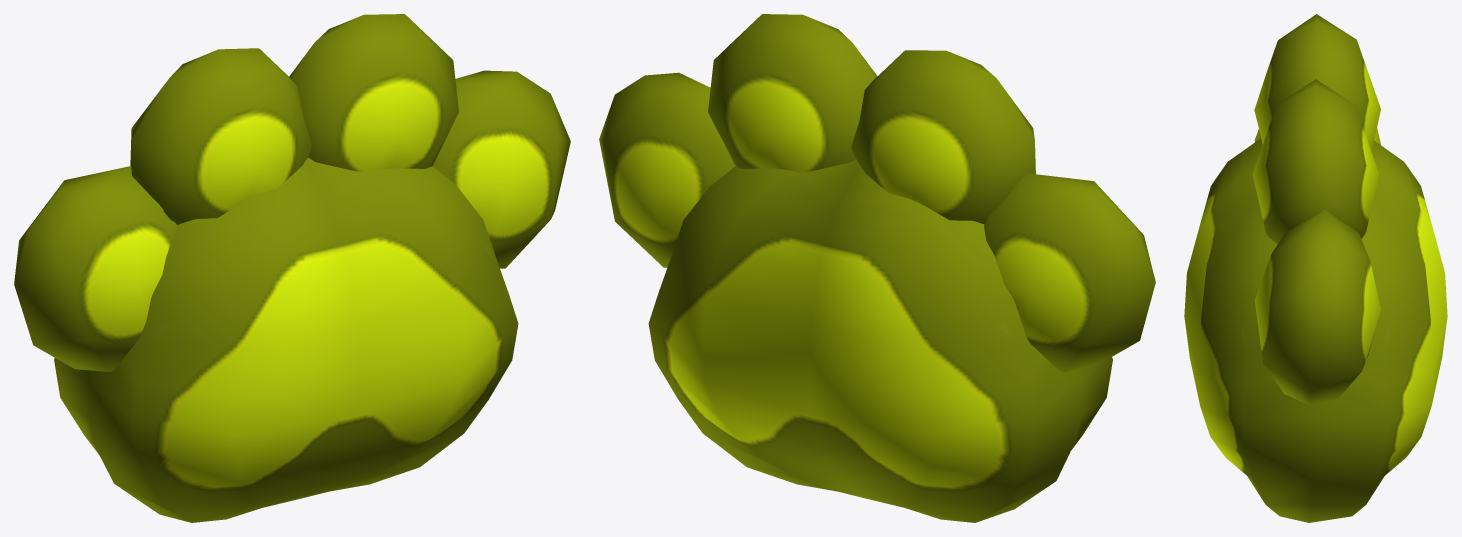
The model's file is green_paw.glb.
The picture shows the model from 3 angles, left to right: view 1: azimuth 30°, elevation 25°; view 2: azimuth 150°, elevation 25°; view 3: azimuth 270°, elevation 25°; orthographic projection. The views are drawn at different scales.
Parts seen in each view (by area): view 1: Green_Paw; view 2: Green_Paw; view 3: Green_Paw.
Boxes of the visible parts, x1,y1,x2,y2 form: Green_Paw: [14, 14, 570, 522]; Green_Paw: [599, 14, 1155, 522]; Green_Paw: [1184, 14, 1447, 522].
Bounding box in the file's own units: 0.6032 × 0.4815 × 0.2672.
1 material, 1 textured.
